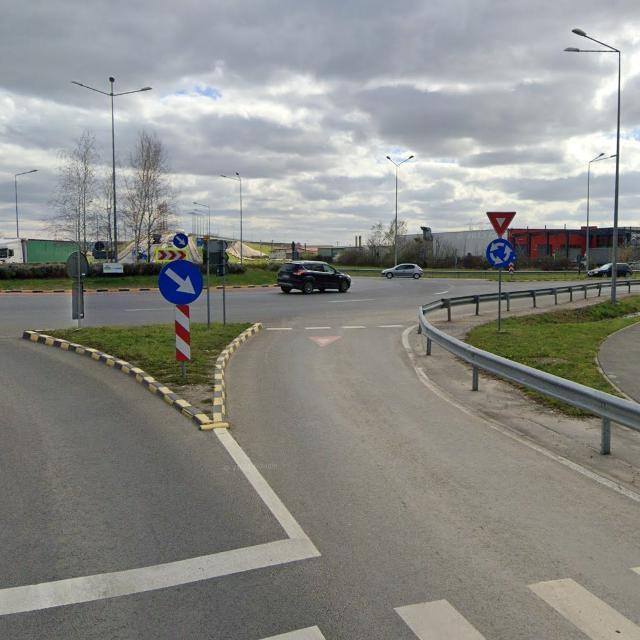prio_give_way: (486, 211, 517, 239), (309, 337, 341, 347)
